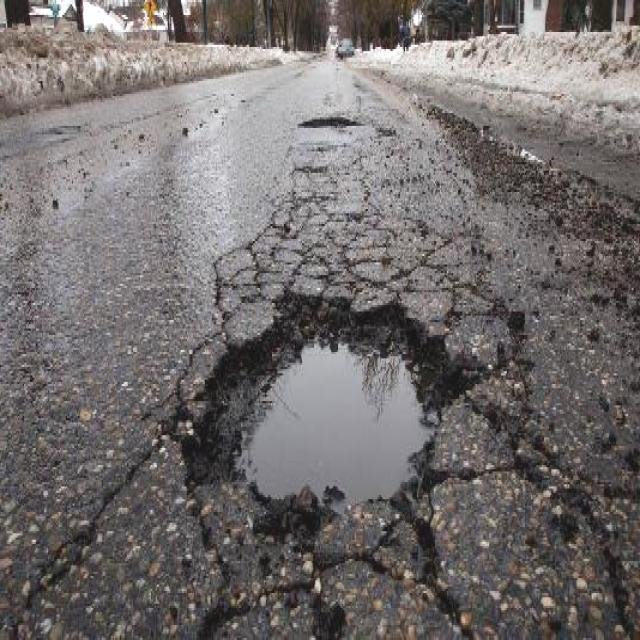Lubang: (182, 302, 462, 528), (299, 116, 361, 128)
